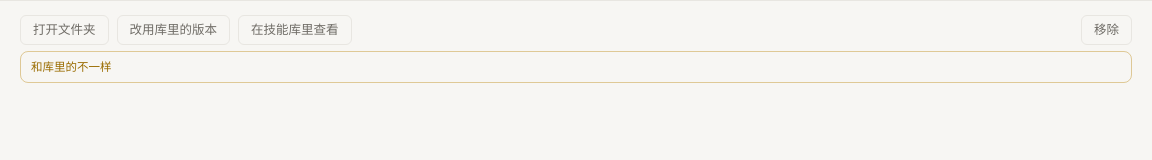
页脚的「在技能库里查看」:core 拼得出地址才摆 › 打开失败要有渲染点,不能静默吞掉
Click the button "在技能库里查看". click: x=295, y=30
box: [238,15,352,45]
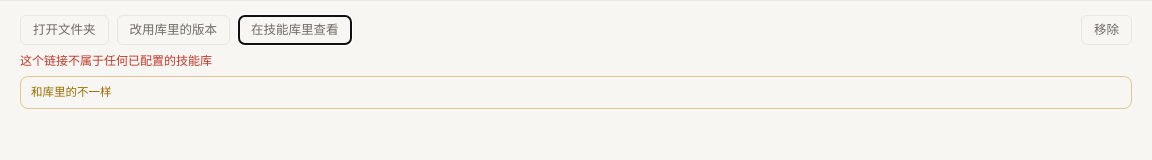
Now the text "这个链接不属于任何已配置的技能库" is shown, box [20,53,212,68]
